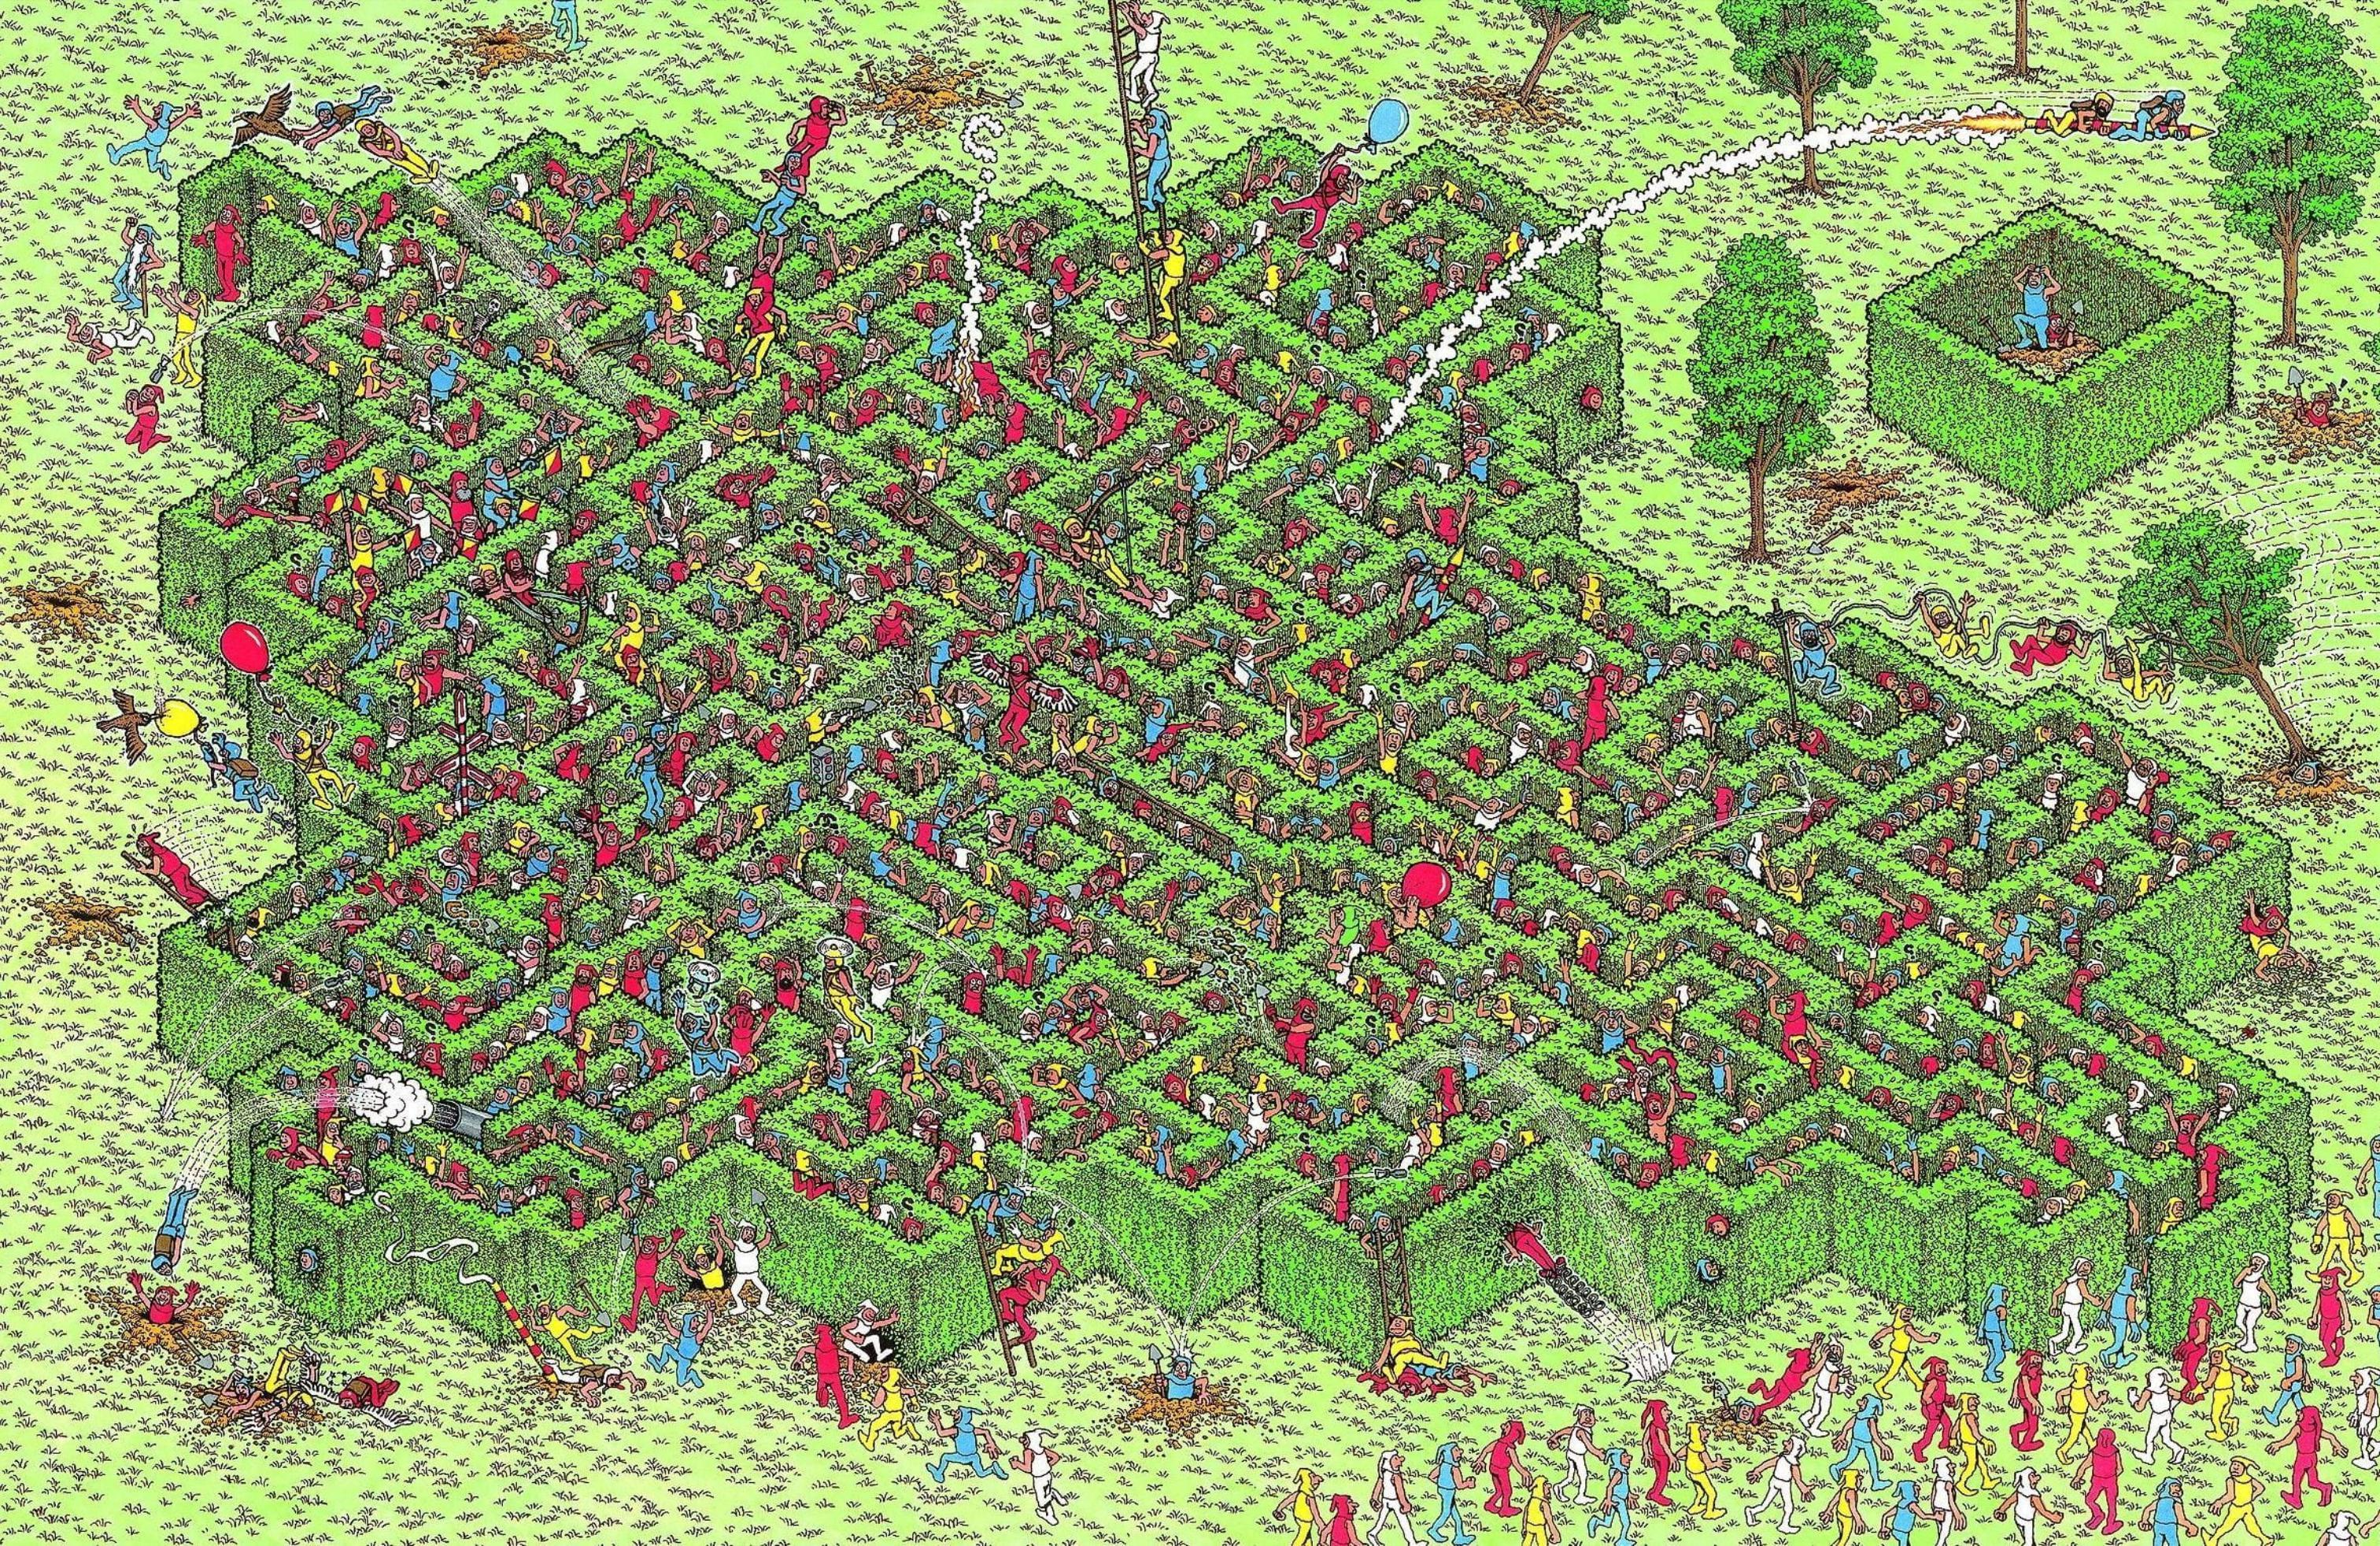waldos: (1070, 645, 1089, 677)
